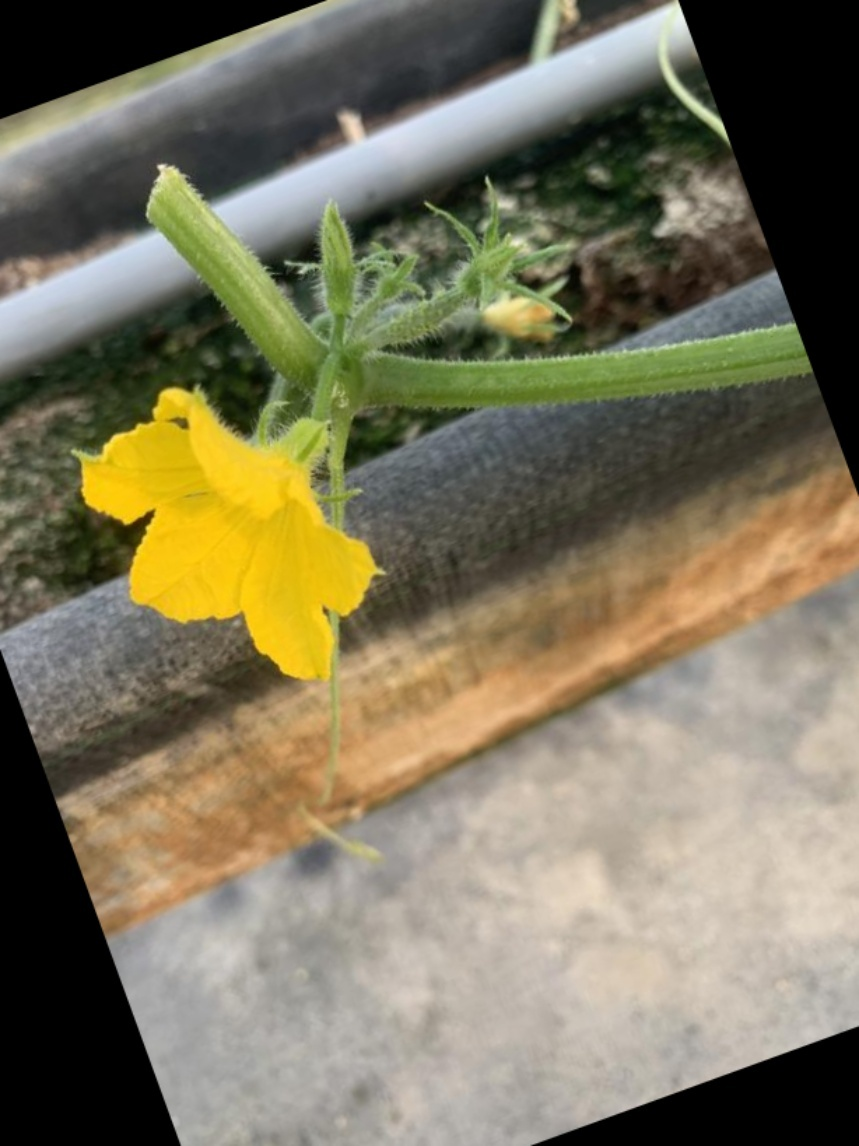flowering: (54, 381, 422, 689)
